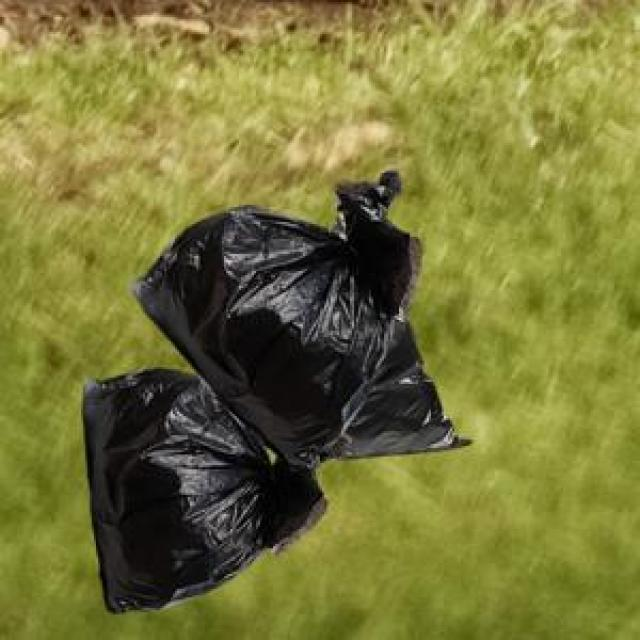waste: (85, 172, 469, 612)
